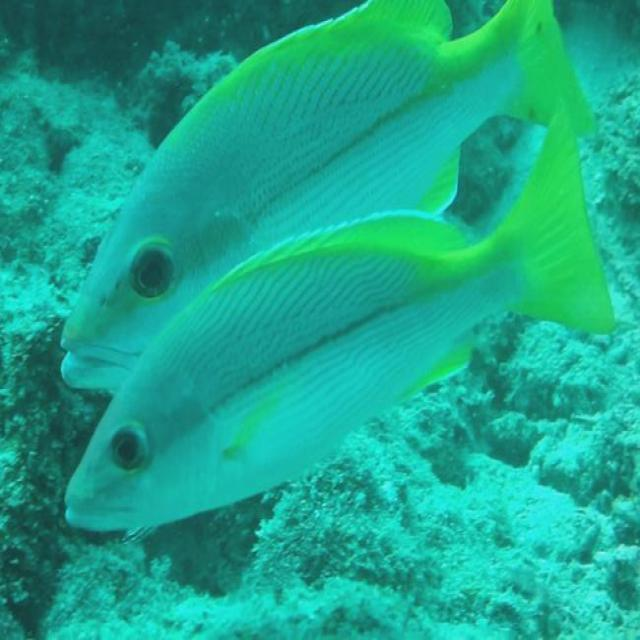ikan: (40, 18, 580, 368), (53, 237, 604, 561)
